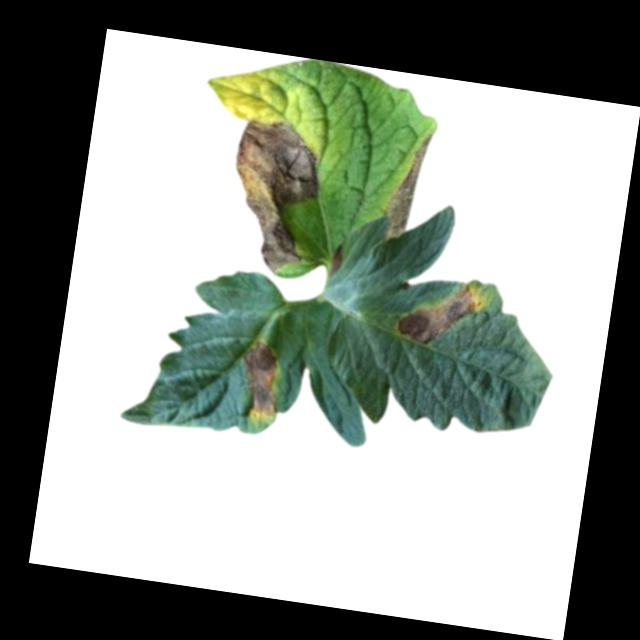Early_blight: (220, 116, 330, 277), (396, 278, 489, 354), (383, 127, 432, 244), (234, 338, 289, 422), (326, 244, 345, 277)
